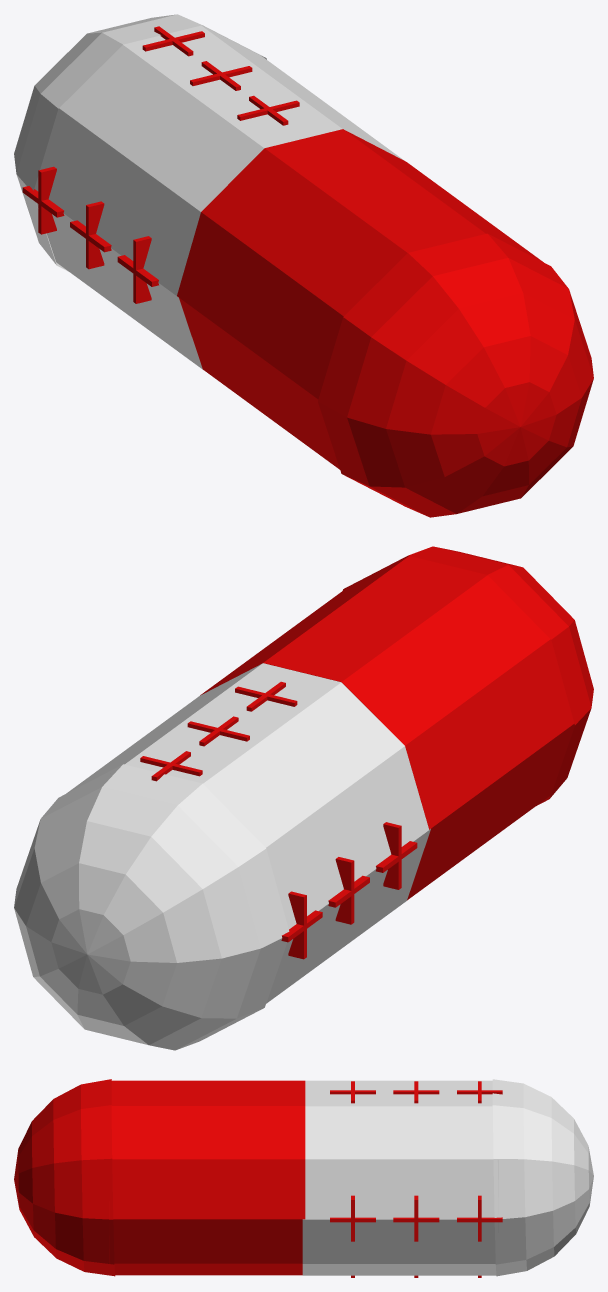
File: rageUpAllObj.fbx
The picture shows the model from 3 angles, top to bottom: view 1: azimuth 30°, elevation 25°; view 2: azimuth 150°, elevation 25°; view 3: azimuth 270°, elevation 25°; orthographic projection. The views are drawn at different scales.
Visible parts, largest first — view 1: rageUpAllObj; view 2: rageUpAllObj; view 3: rageUpAllObj.
Boxes of the visible parts, x1=… form: rageUpAllObj: x1=14, y1=14, x2=593, y2=517; rageUpAllObj: x1=14, y1=546, x2=593, y2=1050; rageUpAllObj: x1=14, y1=1079, x2=593, y2=1277.
Size of the model in its own units: 2.1 by 2.02 by 5.99.
